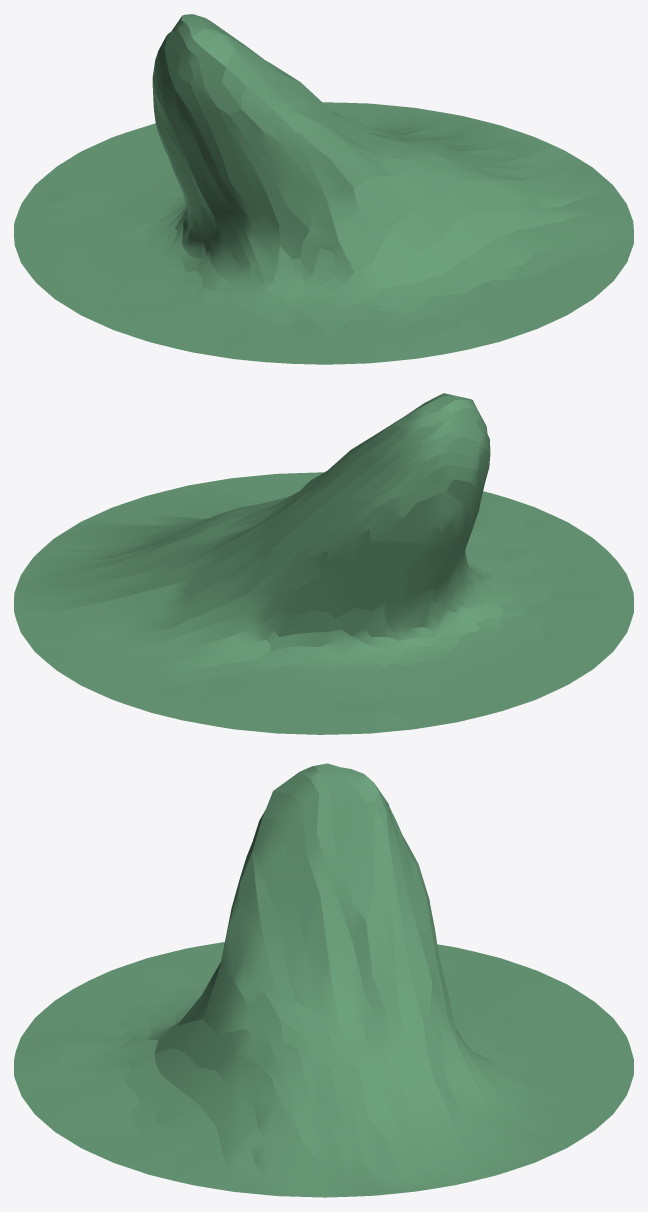
Rendered from rock_beach_hero_C.fbx.
3 renders of one model, top to bottom at view 1: azimuth 30°, elevation 25°; view 2: azimuth 150°, elevation 25°; view 3: azimuth 270°, elevation 25°, orthographic.
Parts seen in each view (by area): view 1: rock_beach_hero_C; view 2: rock_beach_hero_C; view 3: rock_beach_hero_C.
Part boxes in pixels (x1,y1,x2,y2): rock_beach_hero_C: [14, 14, 633, 364]; rock_beach_hero_C: [14, 393, 633, 734]; rock_beach_hero_C: [14, 763, 633, 1197].
Size of the model in its own units: 322 by 136 by 321.
